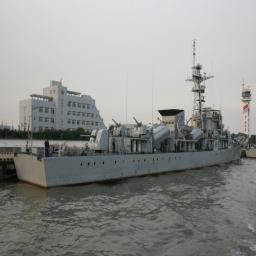Fragata: (6, 23, 249, 191)
